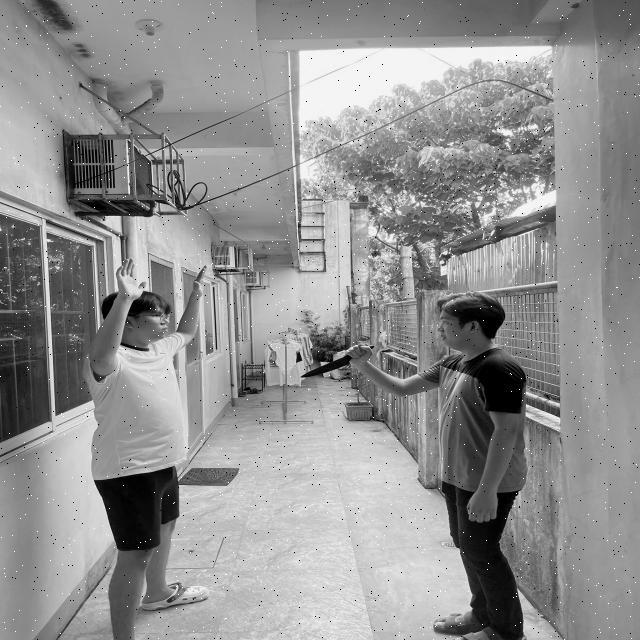knife: (303, 344, 378, 378)
non-violence: (299, 291, 527, 640), (88, 258, 212, 640)
